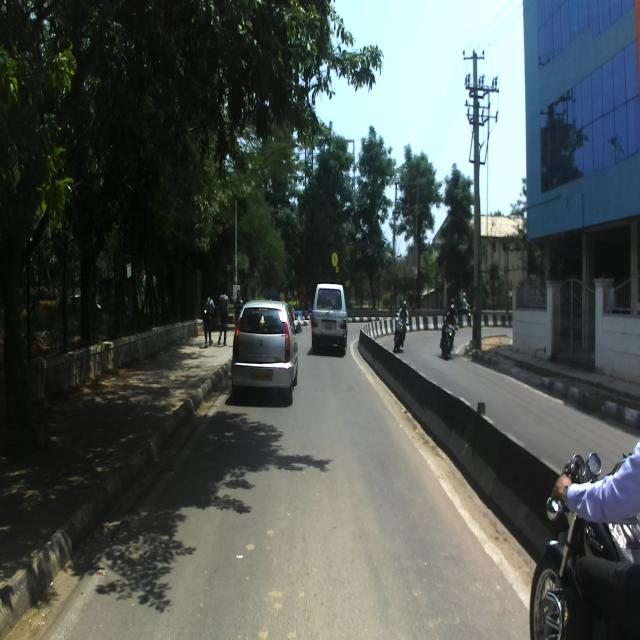car ahead at: (228, 297, 299, 401), (309, 281, 349, 352)
